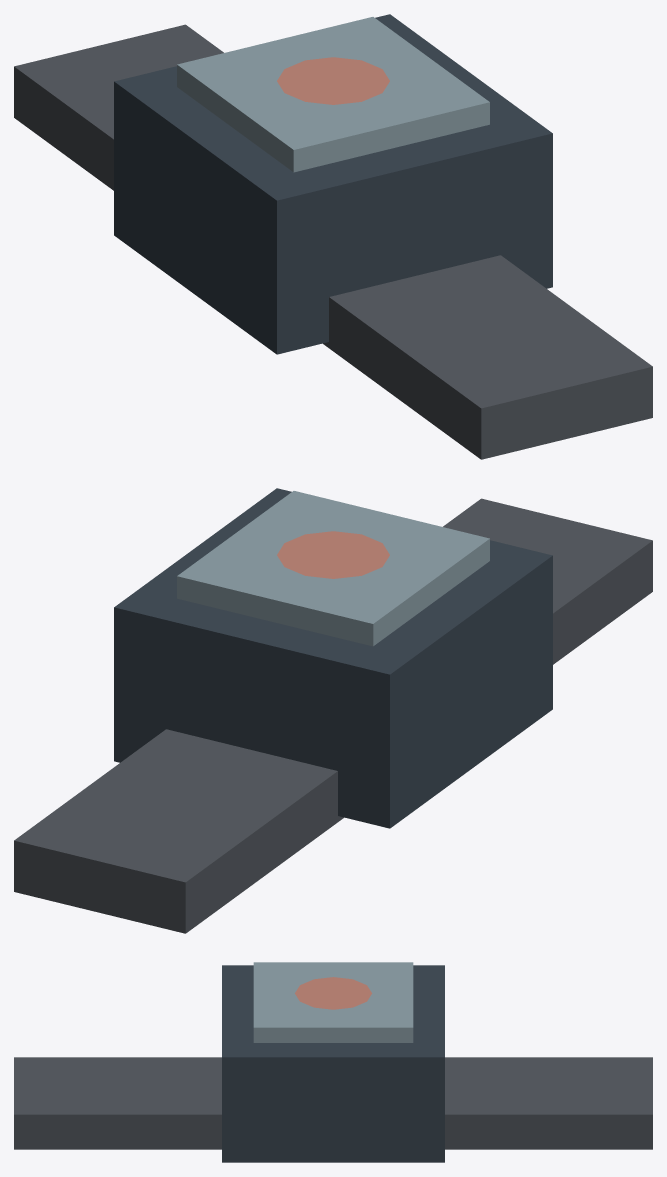
The model's file is tecnologia_smartwatch.glb.
The picture shows the model from 3 angles, top to bottom: view 1: azimuth 30°, elevation 25°; view 2: azimuth 150°, elevation 25°; view 3: azimuth 270°, elevation 25°; orthographic projection. The views are drawn at different scales.
Bounding box in the file's own units: 0.45 × 0.291 × 1.32.
